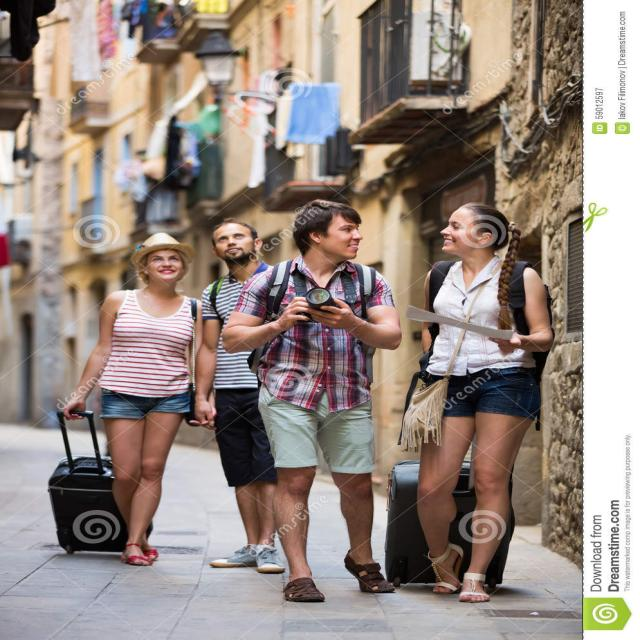body: (220, 196, 398, 604), (396, 199, 558, 604), (46, 230, 220, 567), (187, 217, 292, 576)
